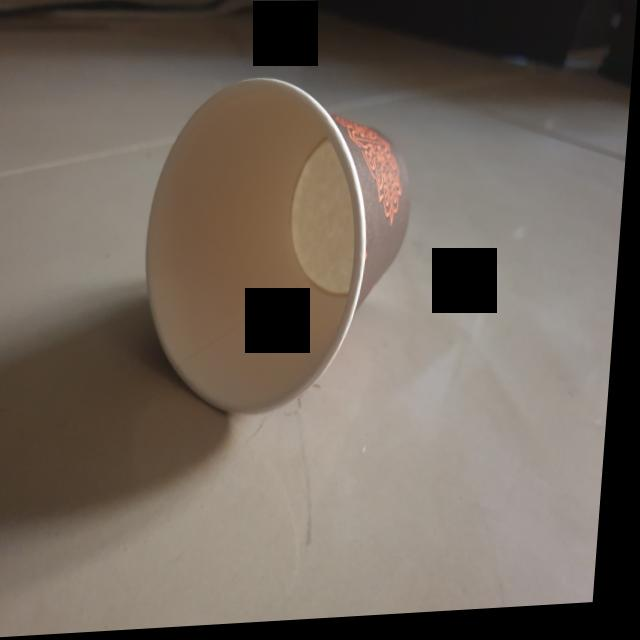cups: (122, 65, 428, 436)
